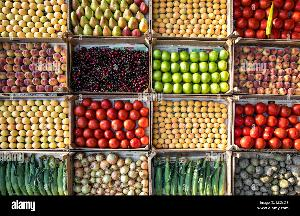apple: (152, 42, 232, 94)
apricot: (152, 96, 232, 148), (0, 98, 70, 150), (151, 0, 231, 38), (0, 0, 68, 38)
corn: (151, 150, 231, 196), (0, 154, 68, 198)
onion: (70, 152, 150, 198)
peach: (0, 42, 68, 94), (234, 44, 300, 96), (232, 0, 300, 42)
pear: (68, 0, 148, 34)
tomato: (71, 97, 151, 148), (232, 96, 300, 150)
